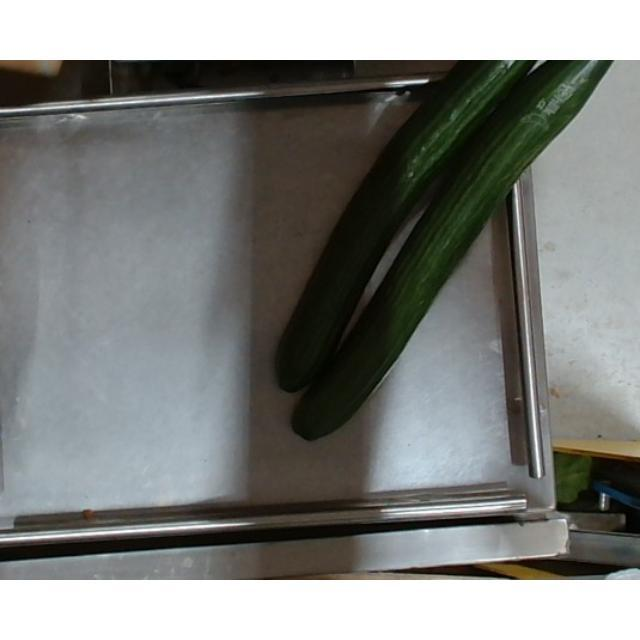cucumber: (291, 61, 613, 442), (273, 61, 531, 393)
